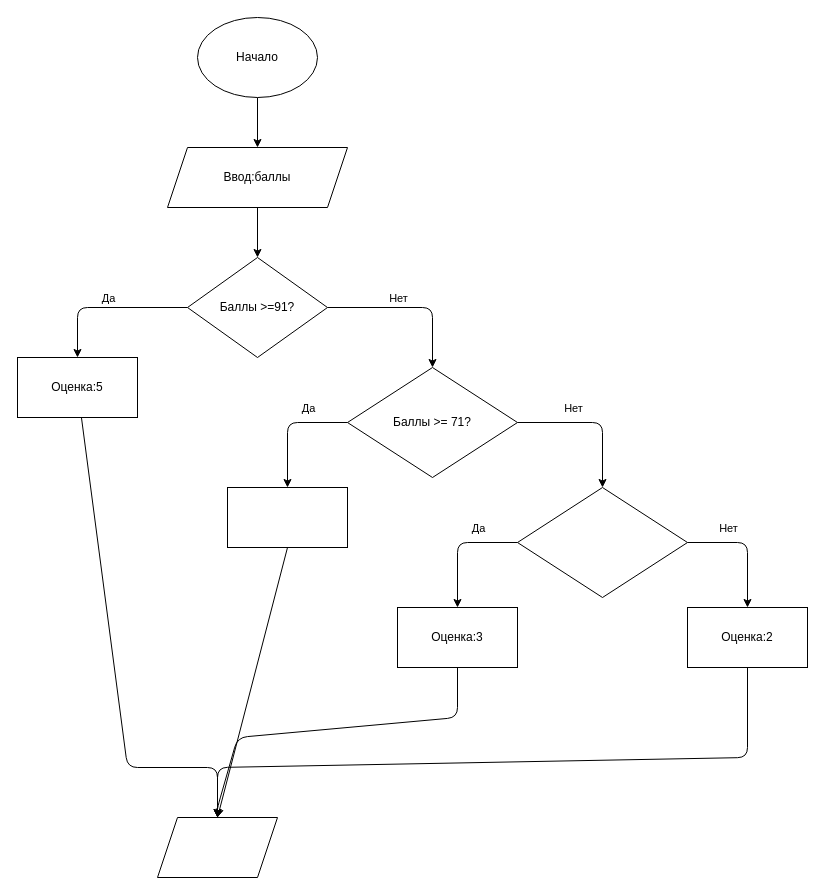
Some shapes in this 825 by 895 pixel diagram are drawn without their labels. The shapes that lost their labels are listed below. From the top down, each one's centre as x and y in pixels, then its label:
At point 287,517: "Оценка:4".
At point 602,542: "Баллы >= 51?".
At point 217,847: "Вывод баллы".
